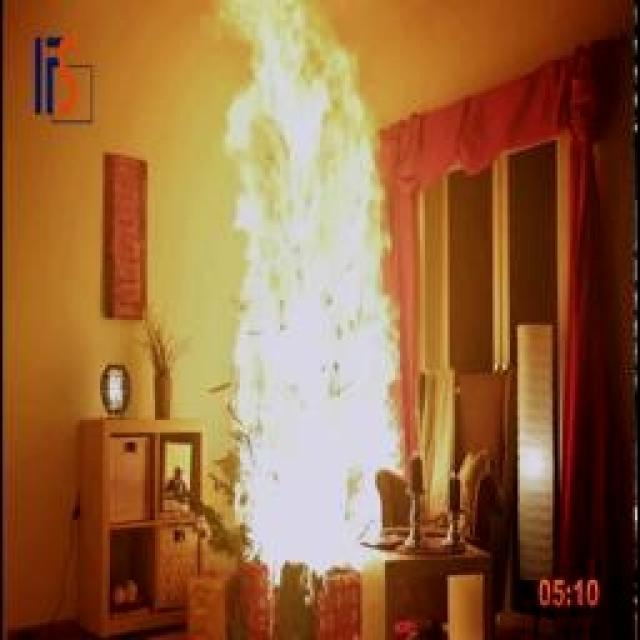fire: (170, 0, 412, 590)
